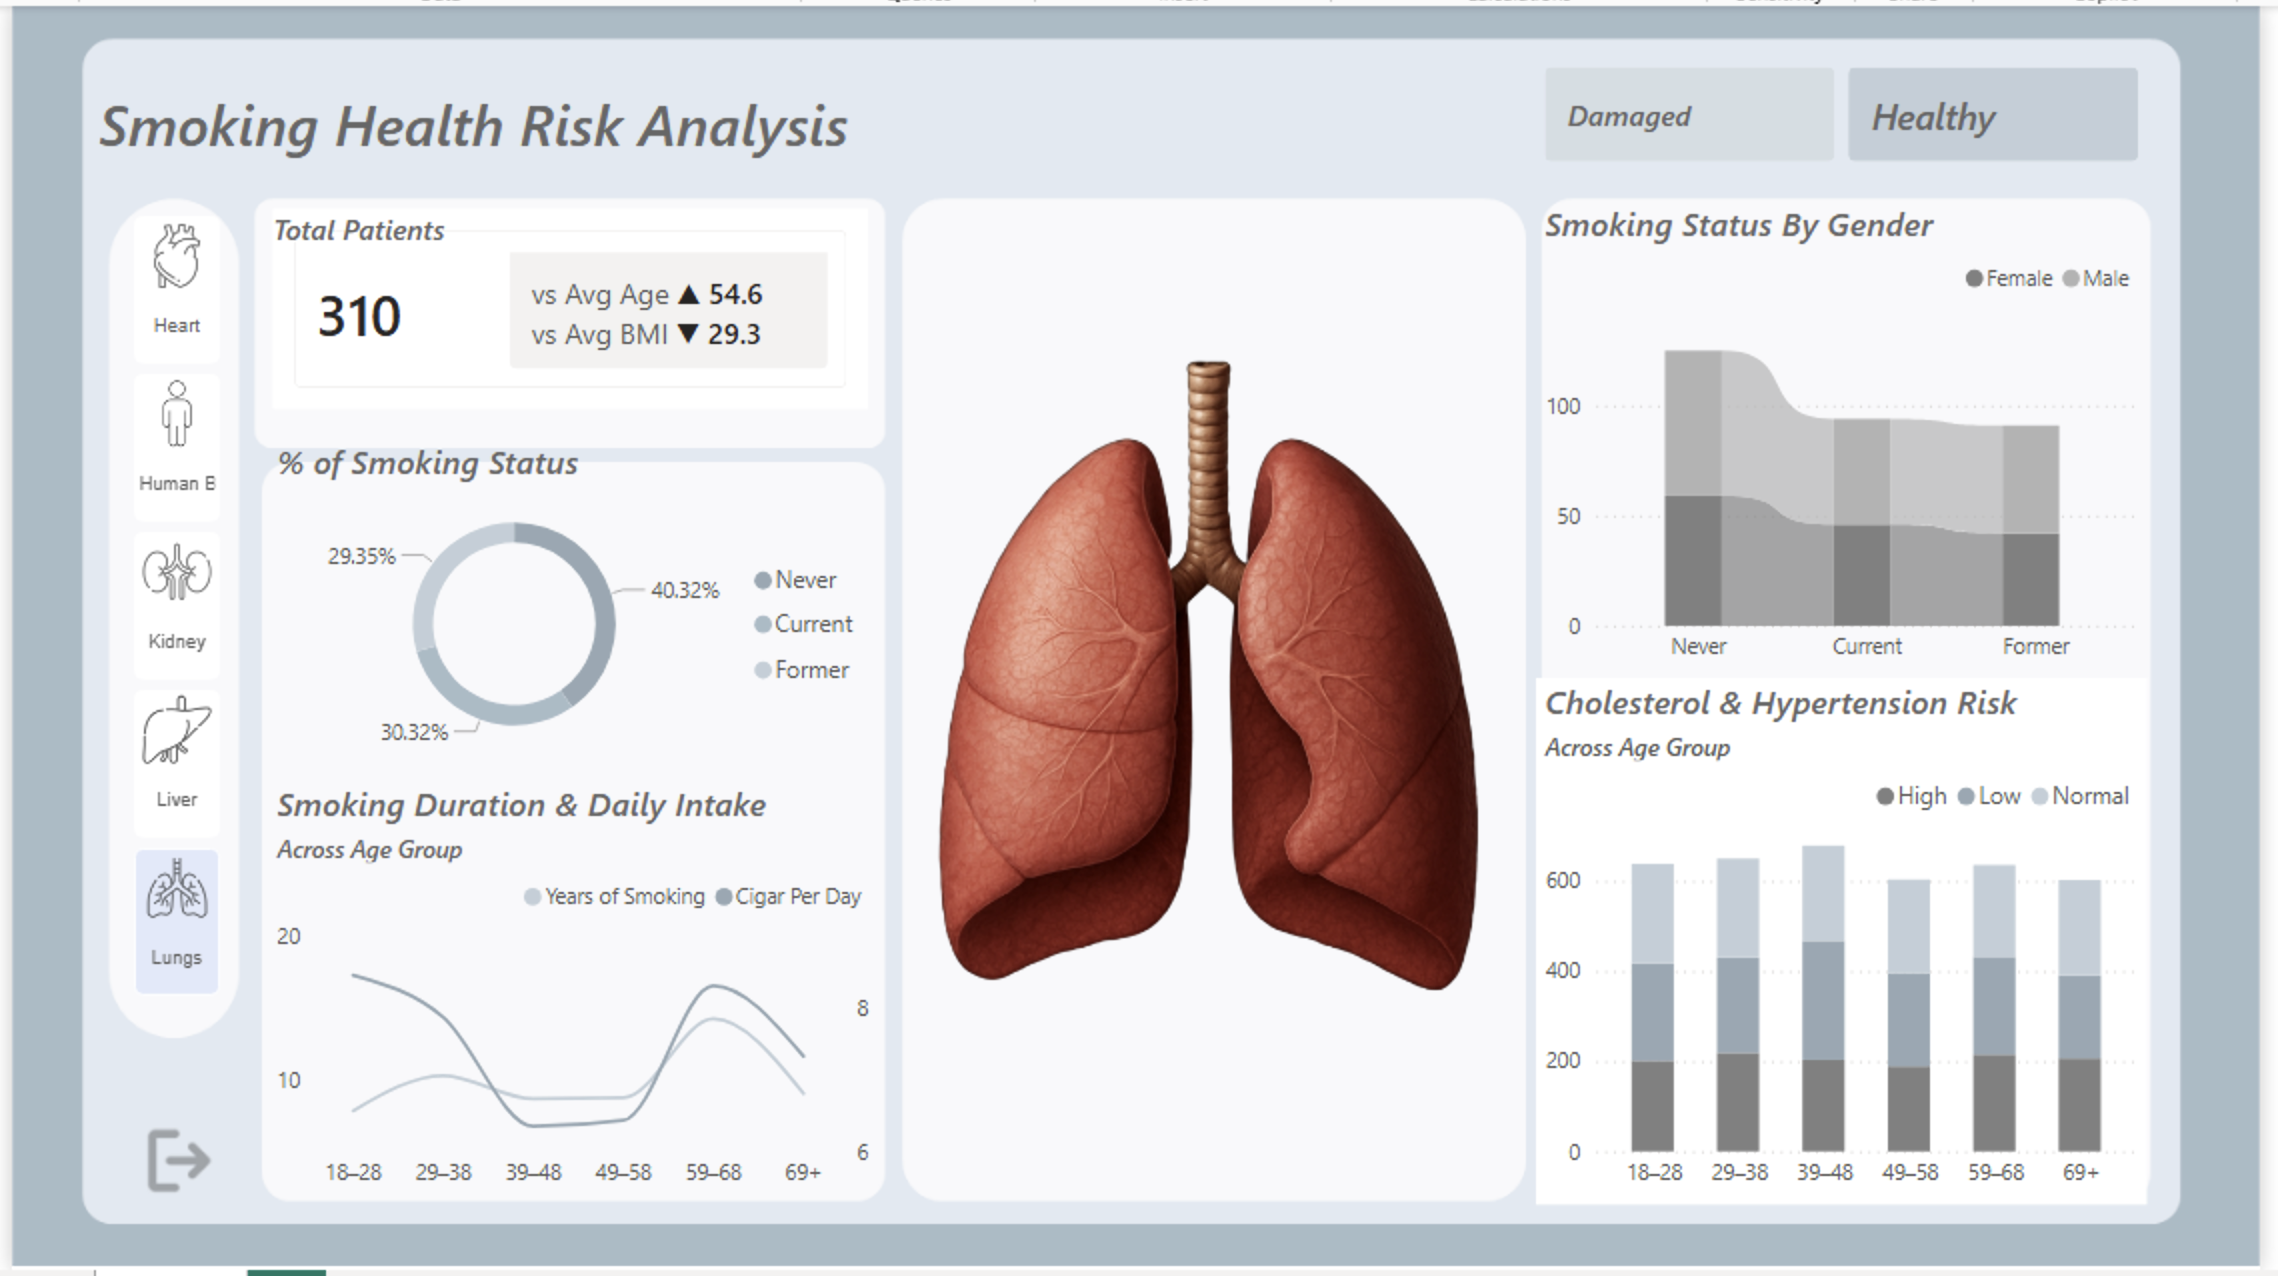

The dashboard page shown, as its layout file describes it:
{"tool":"powerbi","page":{"name":"Page 1","canvas":[1280,720],"ordinal":0},"visuals":[{"type":"cardVisual","fields":{"Data":["CountNonNull(health_dataset.Patient_ID)"]},"box":[143.9,110.2,349.1,124],"z":0},{"type":"textbox","box":[143.9,111.8,117.9,36.7],"z":1000},{"type":"advancedSlicerVisual","fields":{"Values":["condition.Organ_Condition"]},"box":[868.1,29.1,349.1,64.3],"z":2000},{"type":"ChicletSlicer1448559807354","fields":{"Category":["Organs.Organ"],"Image":["Organs.Icon_URL"]},"box":[61.2,111.8,82.7,474.6],"z":3000},{"type":"image","box":[509.6,111.1,348.1,571.9],"z":4000},{"type":"donutChart","title":"% of Smoking Status","fields":{"Category":["health_dataset.Smoking_Status"],"Y":["CountNonNull(health_dataset.Smoking_Status)"]},"box":[145.5,246.5,347.6,186.8],"z":5000},{"type":"lineChart","title":"Smoking Duration & Daily Intake","fields":{"Category":["health_dataset.Age Group"],"Y":["Avg(health_dataset.Years_of_Smoking)"],"Y2":["Avg(health_dataset.Cigarettes_Per_Day)"]},"box":[145.5,441,347.6,241.9],"z":6000},{"type":"ribbonChart","title":"Smoking Status By Gender","fields":{"Category":["health_dataset.Smoking_Status"],"Y":["CountNonNull(health_dataset.Patient_ID)"],"Series":["health_dataset.Gender"]},"box":[868.1,110.2,347.6,272.5],"z":7000},{"type":"columnChart","title":"Cholesterol & Hypertension Risk","fields":{"Category":["health_dataset.Age Group"],"Y":["Avg(health_dataset.Cholesterol_Level)"],"Series":["health_dataset.BP_Risk"]},"box":[868,383,348,300],"z":8000},{"type":"textbox","box":[44.4,23,485.4,76.6],"z":8001}]}

Visuals, with their boxes in screenshot pixels (x1, y1, x2, y2), scaled from the page's 1280x720 canvas onto the 2278x1276 screenshot:
cardVisual - CountNonNull(health_dataset.Patient_ID): rect(256, 195, 877, 415)
textbox: rect(256, 198, 466, 263)
advancedSlicerVisual - condition.Organ_Condition: rect(1545, 52, 2166, 166)
ChicletSlicer1448559807354 - Organs.Organ x Organs.Icon_URL: rect(109, 198, 256, 1039)
image: rect(907, 197, 1526, 1210)
"% of Smoking Status" donutChart: rect(259, 437, 878, 768)
"Smoking Duration & Daily Intake" lineChart: rect(259, 782, 878, 1210)
"Smoking Status By Gender" ribbonChart: rect(1545, 195, 2164, 678)
"Cholesterol & Hypertension Risk" columnChart: rect(1545, 679, 2164, 1210)
textbox: rect(79, 41, 943, 177)
